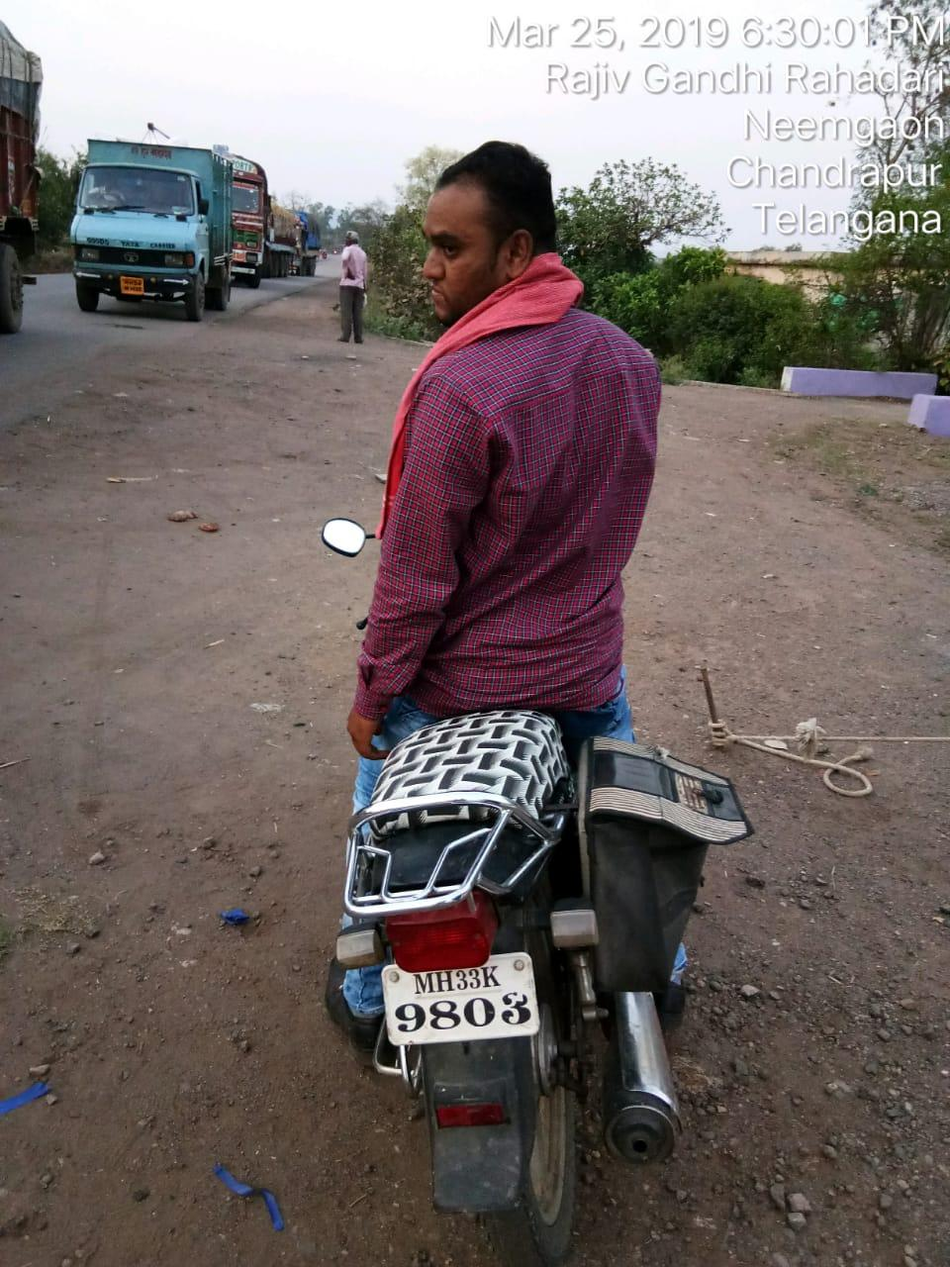plate: (361, 934, 555, 1073)
